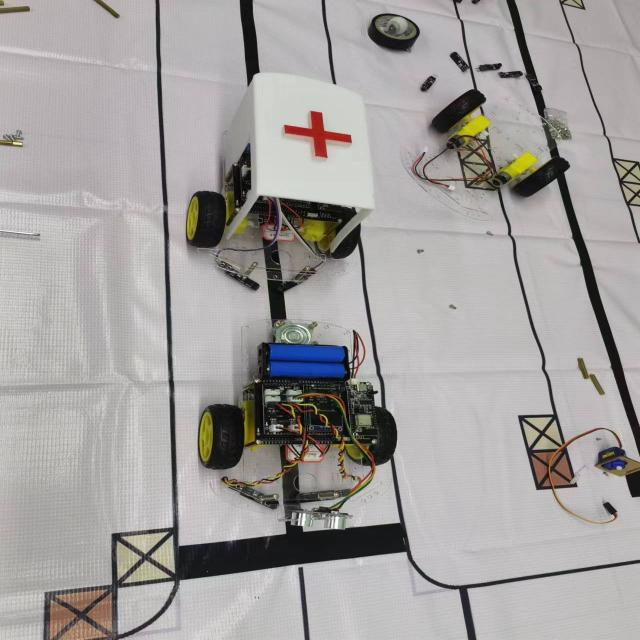RedCross: (276, 103, 362, 166)
